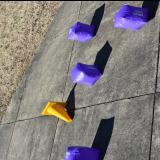cone: (42, 101, 72, 121)
cube: (114, 3, 149, 30), (70, 62, 102, 84), (63, 145, 101, 160), (68, 22, 96, 42)
